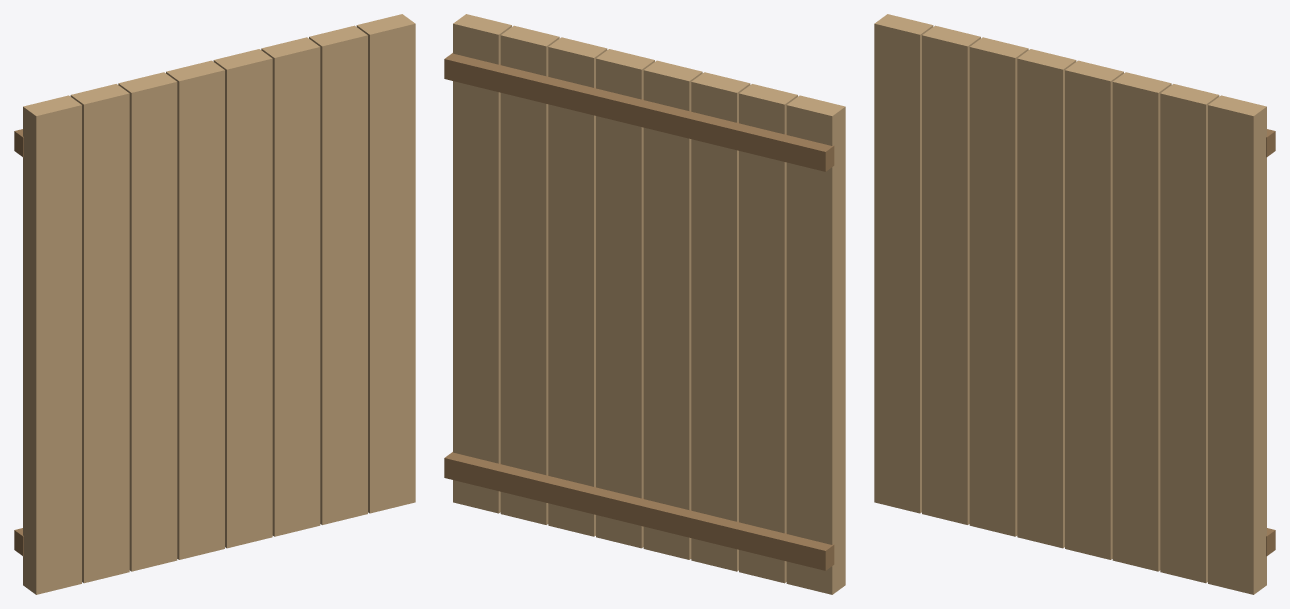
The model's file is campaign_wall.glb.
3 views of the same model, side by side, from view 1: azimuth 30°, elevation 25°; view 2: azimuth 150°, elevation 25°; view 3: azimuth 330°, elevation 25° (orthographic).
Visible parts, largest first — view 1: campaign_wall; view 2: campaign_wall; view 3: campaign_wall.
Boxes of the visible parts, x1,y1,x2,y2 form: campaign_wall: [14, 14, 415, 594]; campaign_wall: [444, 14, 845, 594]; campaign_wall: [874, 14, 1275, 594].
Bounding box in the file's own units: 2 × 2.4 × 0.19.
